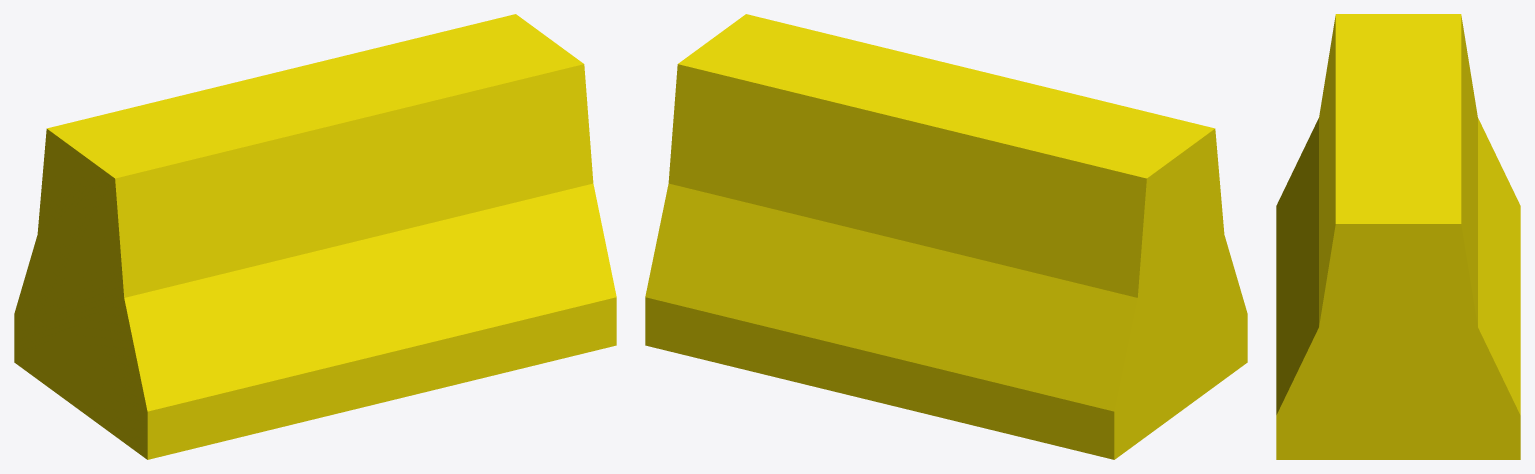
File: barrierWhite.glb
3 renders of one model, left to right at view 1: azimuth 30°, elevation 25°; view 2: azimuth 150°, elevation 25°; view 3: azimuth 270°, elevation 25°, orthographic. The views are drawn at different scales.
Visible parts, largest first — view 1: barrierWhite(Clone); view 2: barrierWhite(Clone); view 3: barrierWhite(Clone).
Part boxes in pixels (x1,y1,x2,y2): barrierWhite(Clone): [14, 14, 616, 459]; barrierWhite(Clone): [645, 14, 1247, 459]; barrierWhite(Clone): [1276, 14, 1520, 459].
Bounding box in the file's own units: 0.25 × 0.1312 × 0.123.
